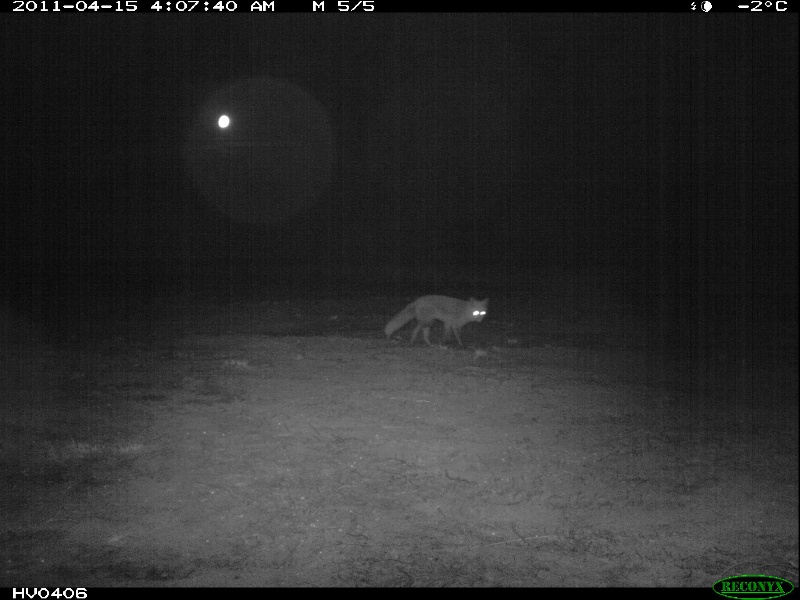fox: (383, 293, 496, 345)
